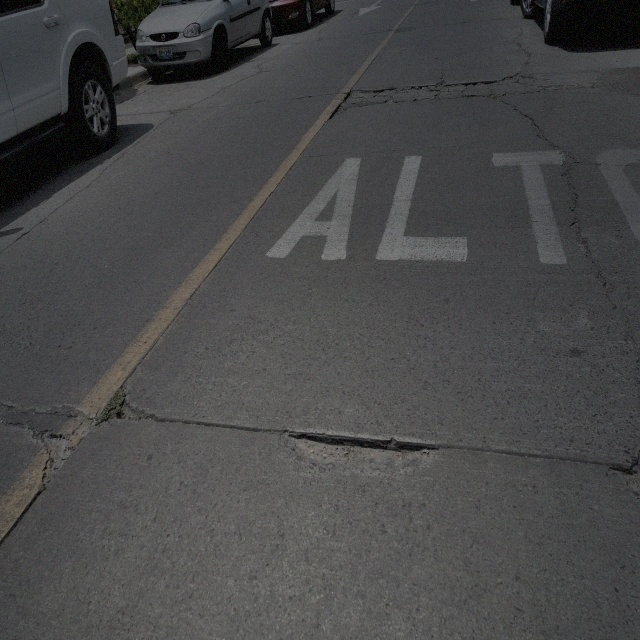pothole: (292, 422, 439, 474), (38, 431, 77, 495), (93, 381, 147, 424), (330, 88, 382, 117)
